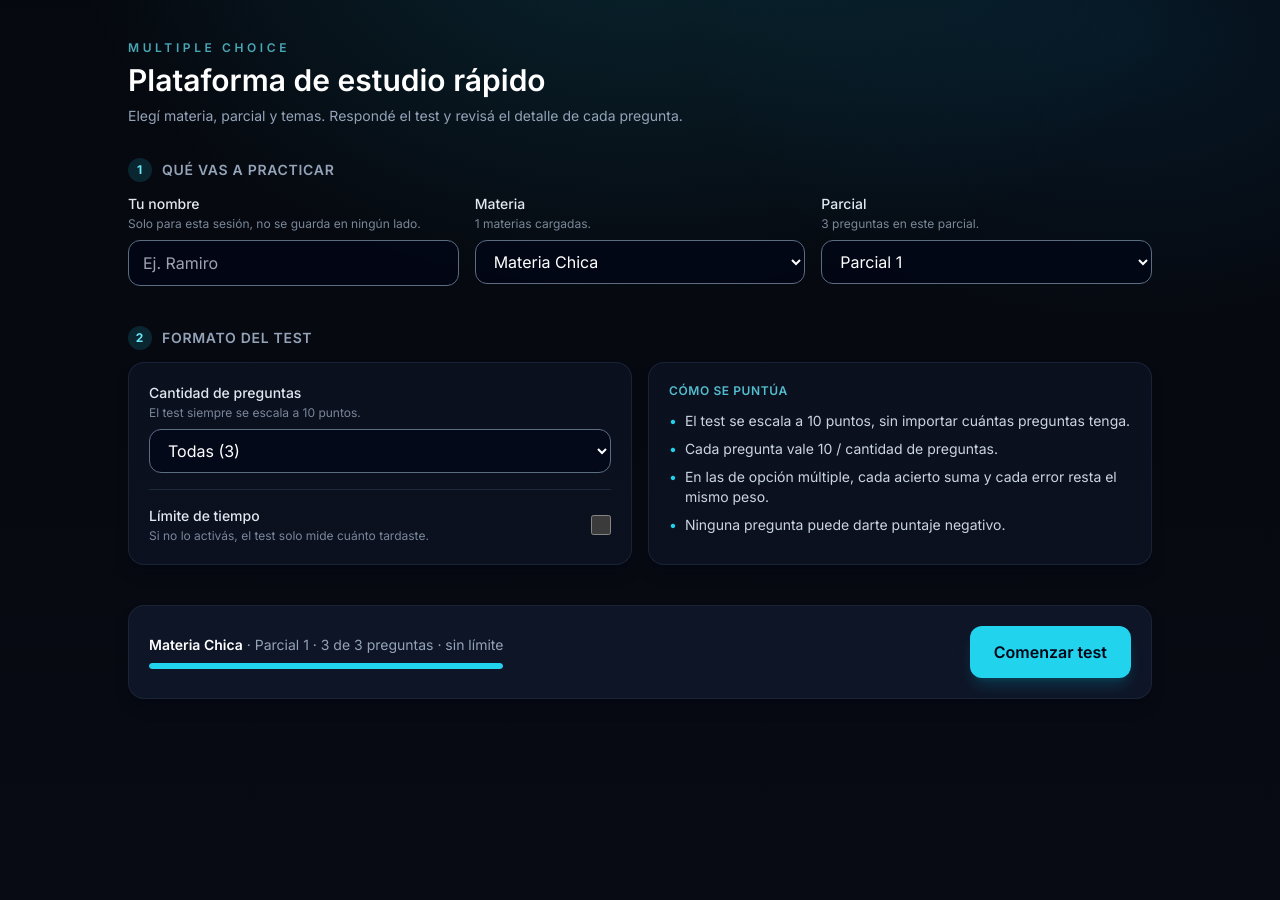
Test: TestApp · envío › pide confirmación cuando quedan preguntas sin responder
Click the button "Comenzar test" at coordinates (1050, 652), box 970,626 -> 1131,678
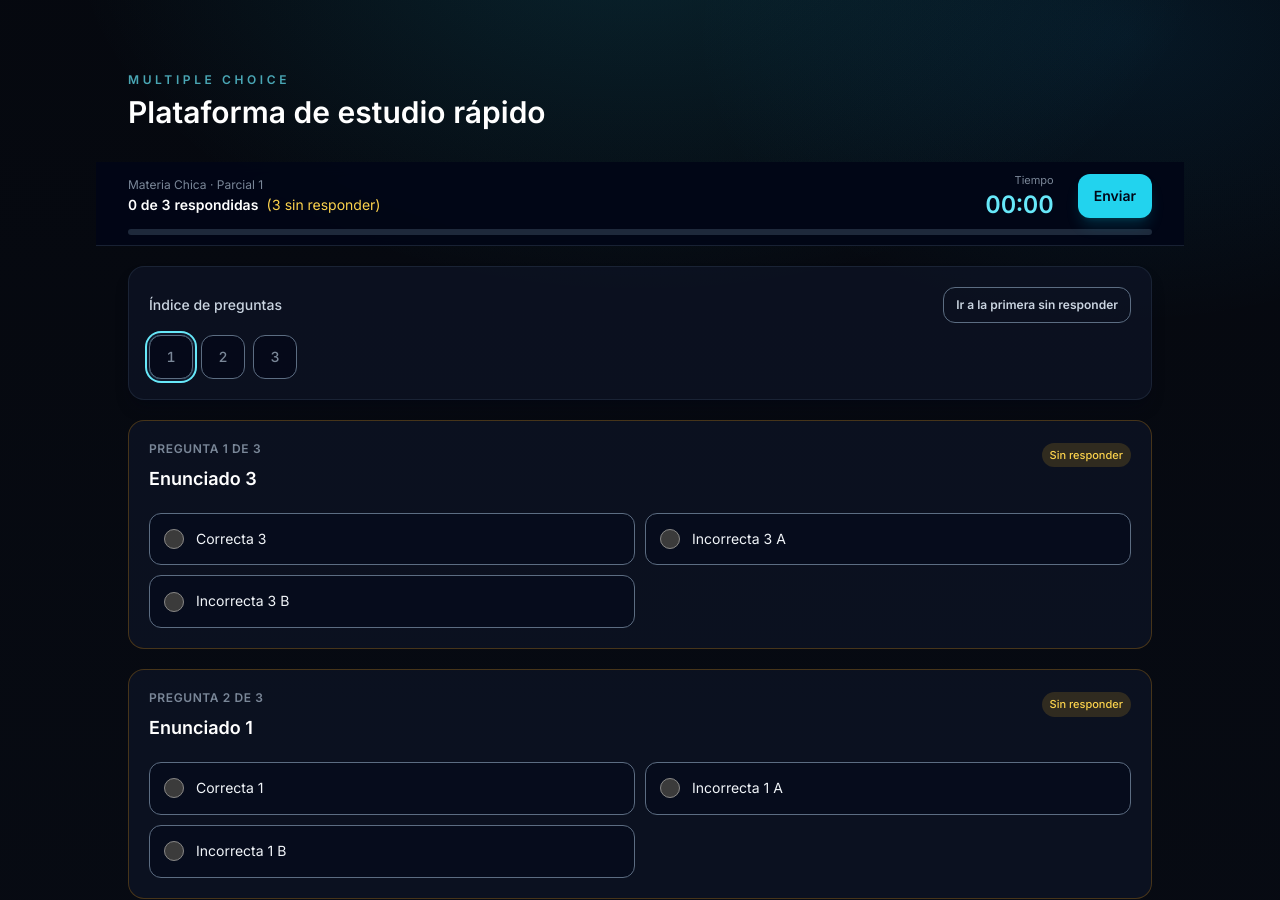
Click the radio button labelled "Correcta 1" at coordinates (174, 788), box 164,778 -> 184,798
(page scrolled)
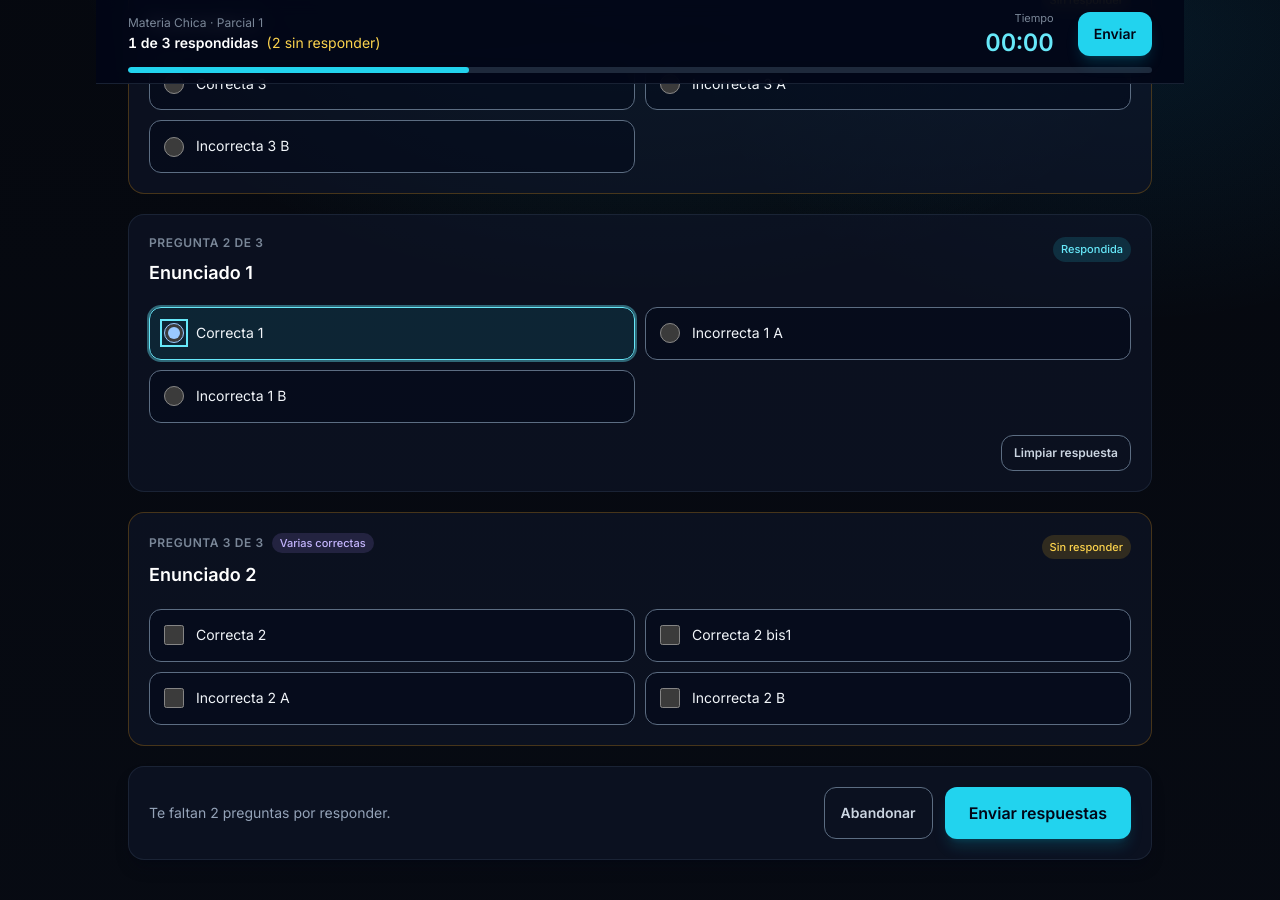
Click the button "Enviar respuestas" at coordinates (1038, 812), box 945,786 -> 1131,838
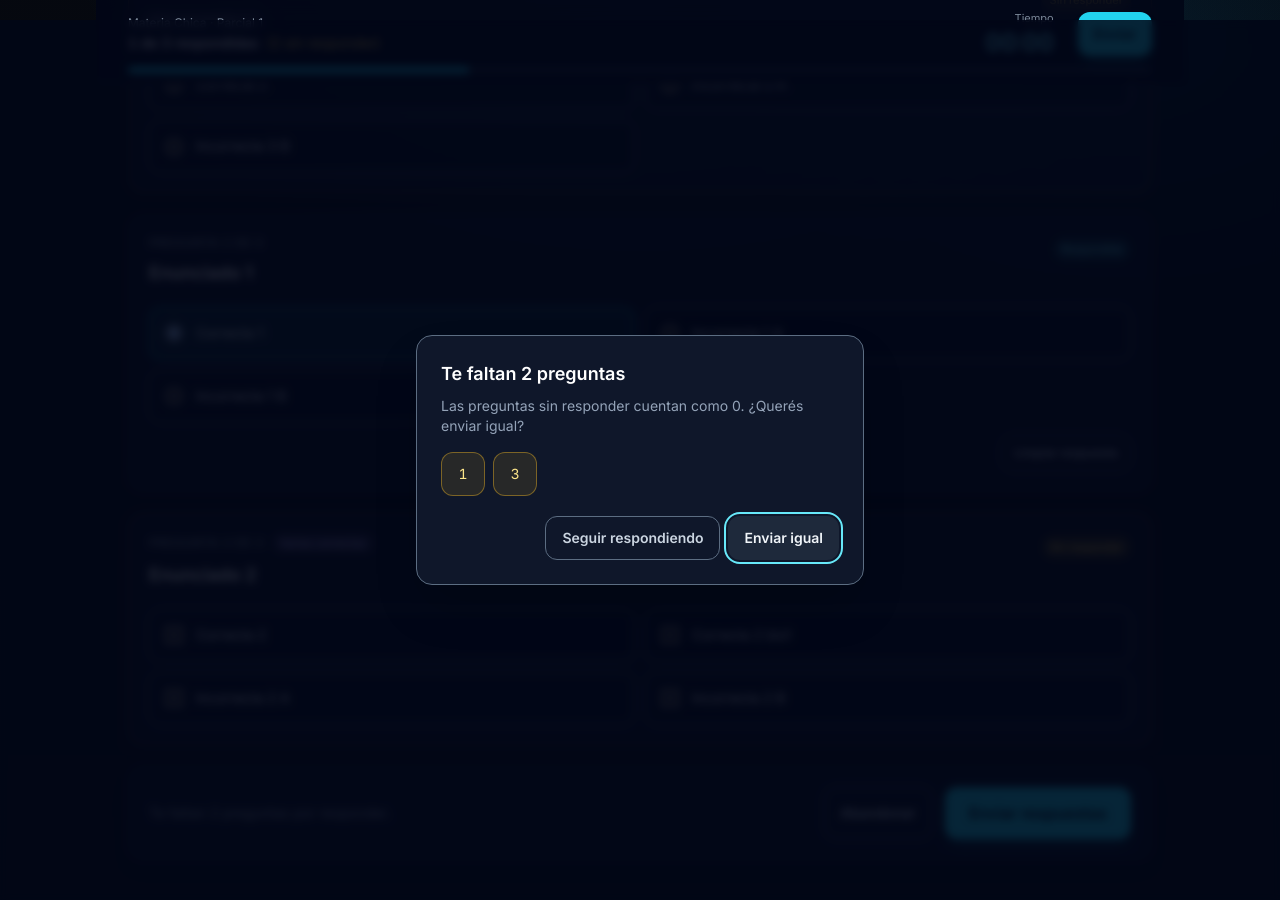
Expected: the heading "Te faltan 2 preguntas" is shown, 441,363 -> 625,384
Click the button "Seguir respondiendo" at coordinates (633, 538), box 546,516 -> 720,560
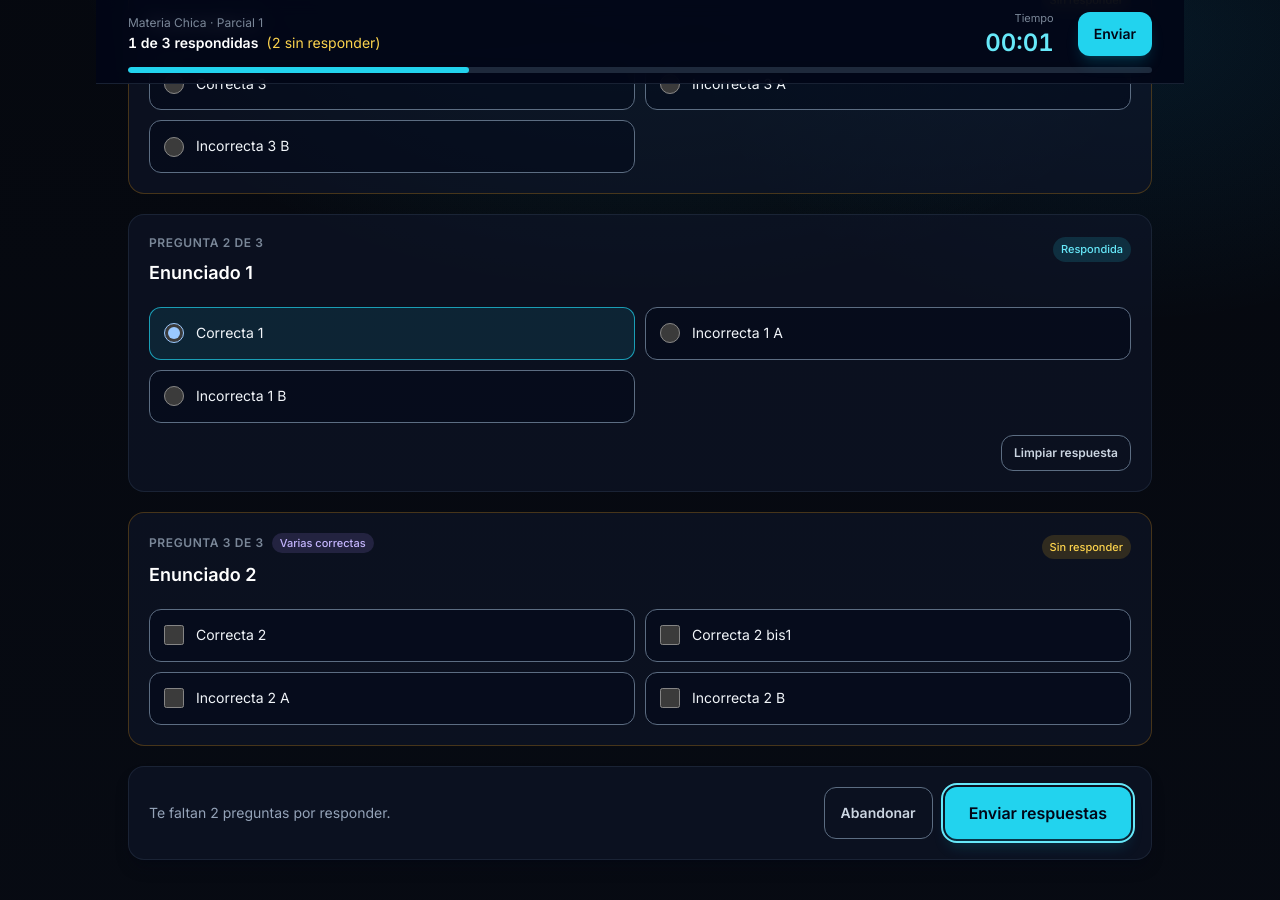
Expected: the text "1 de 3 respondidas(2 sin responder)" is shown, 128,34 -> 381,51
Expected: the dialog is gone
